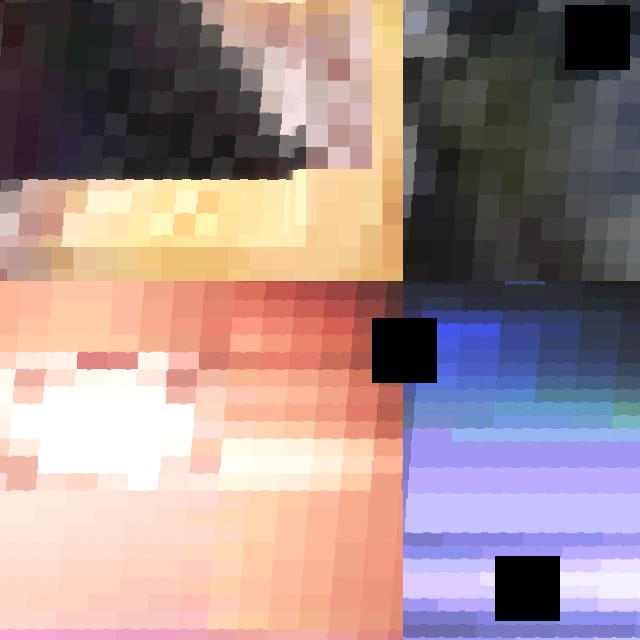arms: (0, 281, 403, 640), (403, 281, 640, 640), (0, 0, 306, 247), (403, 0, 640, 281)
